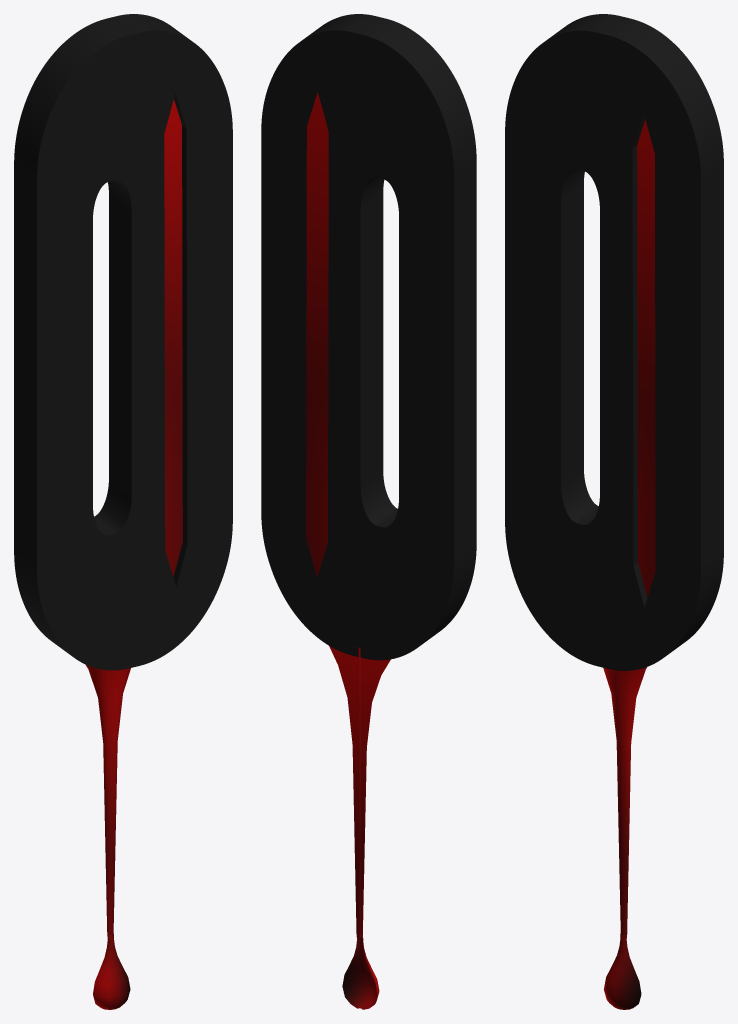
The picture shows the model from 3 angles, left to right: view 1: azimuth 30°, elevation 25°; view 2: azimuth 150°, elevation 25°; view 3: azimuth 330°, elevation 25°; orthographic projection.
Parts seen in each view (by area): view 1: 0, 0_Element, Blood_137; view 2: 0, 0_Element, Blood_137; view 3: 0, 0_Element, Blood_137.
Part boxes in pixels (left/top/right/bottom): 0: left=14, top=14, right=232, bottom=670; 0_Element: left=164, top=99, right=182, bottom=576; Blood_137: left=86, top=665, right=130, bottom=1009; 0: left=261, top=14, right=476, bottom=660; 0_Element: left=306, top=92, right=328, bottom=577; Blood_137: left=329, top=646, right=390, bottom=1009; 0: left=505, top=14, right=723, bottom=670; 0_Element: left=637, top=119, right=655, bottom=597; Blood_137: left=603, top=667, right=646, bottom=1009.
Size of the model in its own units: 24.83 by 120 by 5.05.
2 materials, 1 textured.
